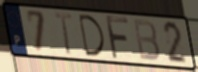2: (162, 20, 189, 66)
7: (25, 8, 49, 54)
B: (132, 18, 162, 63)
D: (76, 13, 107, 59)
F: (104, 14, 131, 61)
T: (53, 10, 74, 57)
